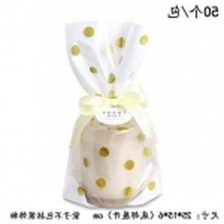snack: (54, 9, 172, 214)
